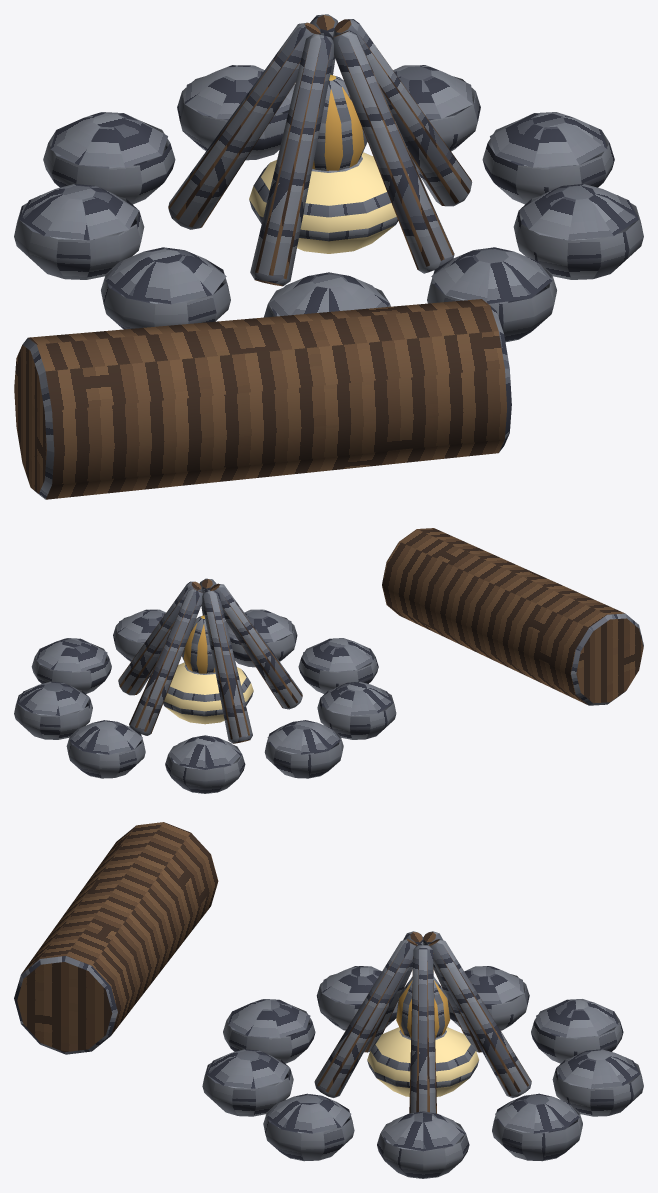
The model's file is spec_campfire_0.glb.
3 renders of one model, top to bottom at view 1: azimuth 30°, elevation 25°; view 2: azimuth 150°, elevation 25°; view 3: azimuth 270°, elevation 25°, orthographic. The views are drawn at different scales.
Visible parts, largest first — view 1: spec_campfire_0; view 2: spec_campfire_0; view 3: spec_campfire_0.
Boxes of the visible parts, x1,y1,x2,y2 form: spec_campfire_0: (14, 14, 643, 499); spec_campfire_0: (14, 528, 643, 793); spec_campfire_0: (14, 822, 643, 1178).
Bounding box in the file's own units: 2.2 × 0.602 × 2.2.
Materials: 4 (4 with a texture image).
